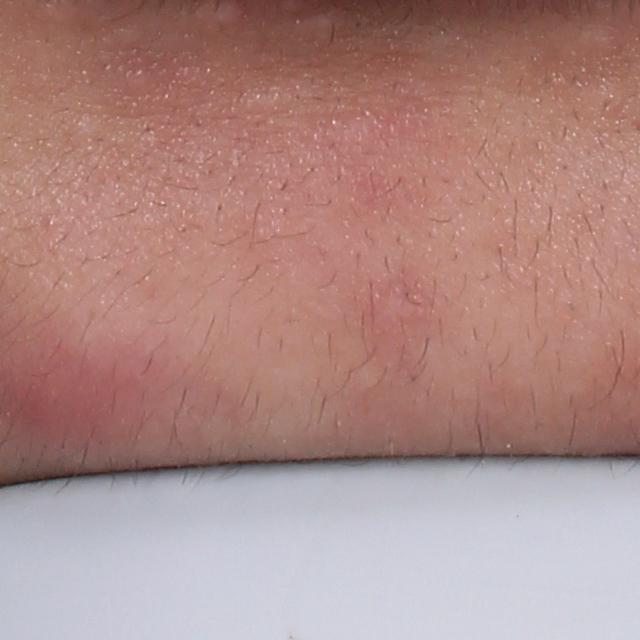hypertrophic_scar: (301, 6, 357, 39)
